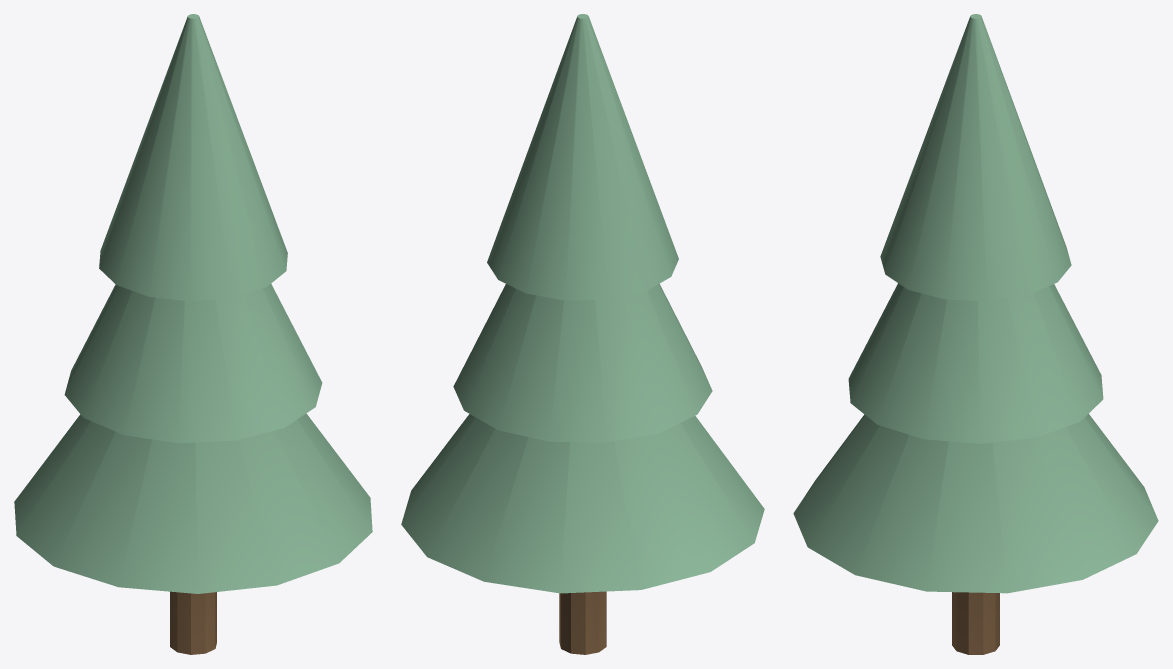
Rendered from pine-01.envelope.glb.
The picture shows the model from 3 angles, left to right: view 1: azimuth 30°, elevation 25°; view 2: azimuth 150°, elevation 25°; view 3: azimuth 270°, elevation 25°; orthographic projection.
Parts seen in each view (by area): view 1: pine-01.foliage, pine-01.warm; view 2: pine-01.foliage, pine-01.warm; view 3: pine-01.foliage, pine-01.warm.
Part boxes in pixels (<box>): pine-01.foliage: <box>14,14,372,593</box>; pine-01.warm: <box>170,591,216,654</box>; pine-01.foliage: <box>401,14,764,593</box>; pine-01.warm: <box>559,591,606,654</box>; pine-01.foliage: <box>793,14,1158,593</box>; pine-01.warm: <box>952,592,999,654</box>.
Bounding box in the file's own units: 0.7483 × 1.44 × 0.7591.
